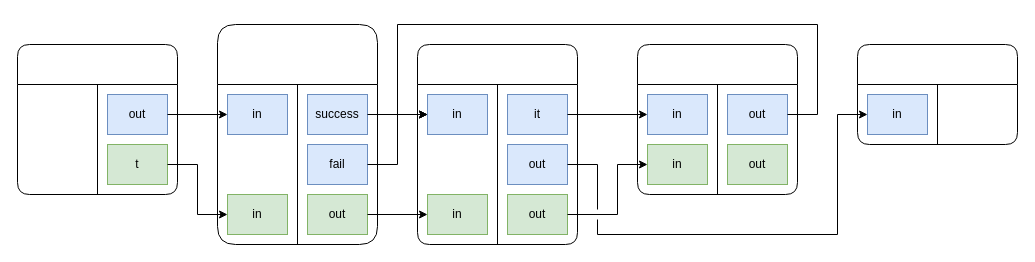
Image size: 1035x262. Some labels were removed from this diagram. Here are the shapes that lost their labels. From the top down, the box of each, then its label:
(856, 44, 1018, 144): sub_end: End
(16, 44, 178, 194): sub_start: Start
(216, 24, 378, 244): outgoing places: Match rules/all_outgoing.od matches: 1
(636, 44, 798, 194): increase place: Rewrite rules/increase_outgoing.od
(416, 44, 578, 244): iterate places: Loop
